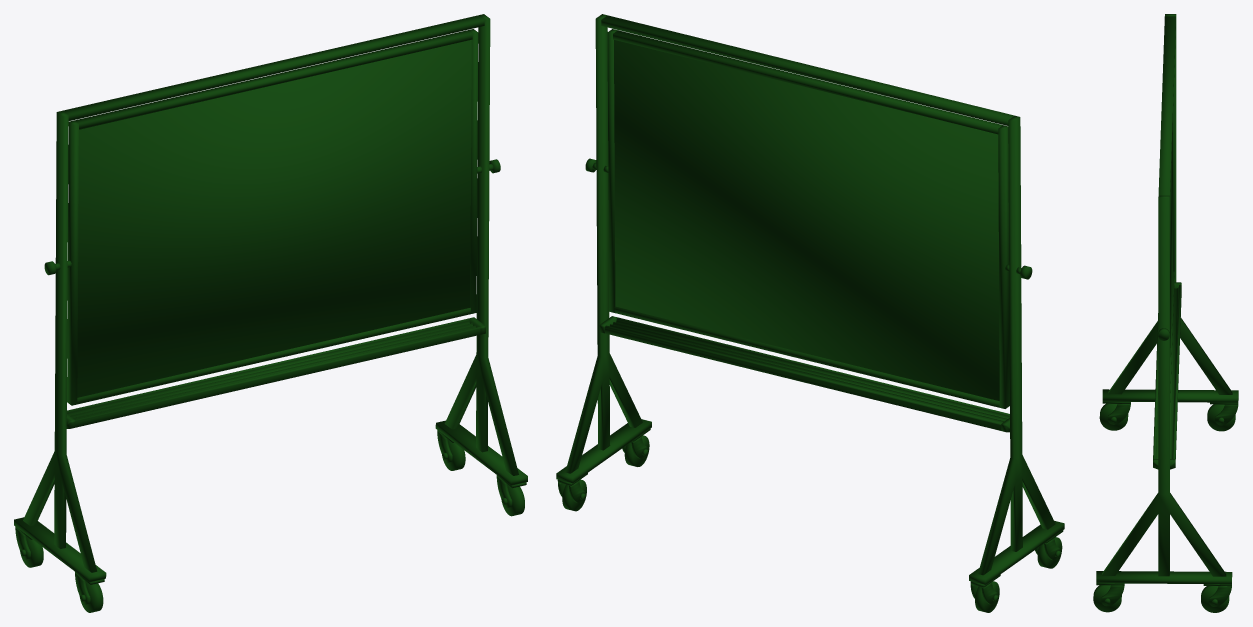
File: board.glb
3 views of the same model, side by side, from view 1: azimuth 30°, elevation 25°; view 2: azimuth 150°, elevation 25°; view 3: azimuth 270°, elevation 25° (orthographic). The views are drawn at different scales.
Parts seen in each view (by area): view 1: AnyConv.com__Chalkboard; view 2: AnyConv.com__Chalkboard; view 3: AnyConv.com__Chalkboard.
Boxes of the visible parts, box(x1,y1,x2,y2) form: AnyConv.com__Chalkboard: box(14, 14, 527, 612); AnyConv.com__Chalkboard: box(556, 14, 1064, 612); AnyConv.com__Chalkboard: box(1093, 14, 1238, 612).
Bounding box in the file's own units: 2.03 × 2.07 × 0.6517.
